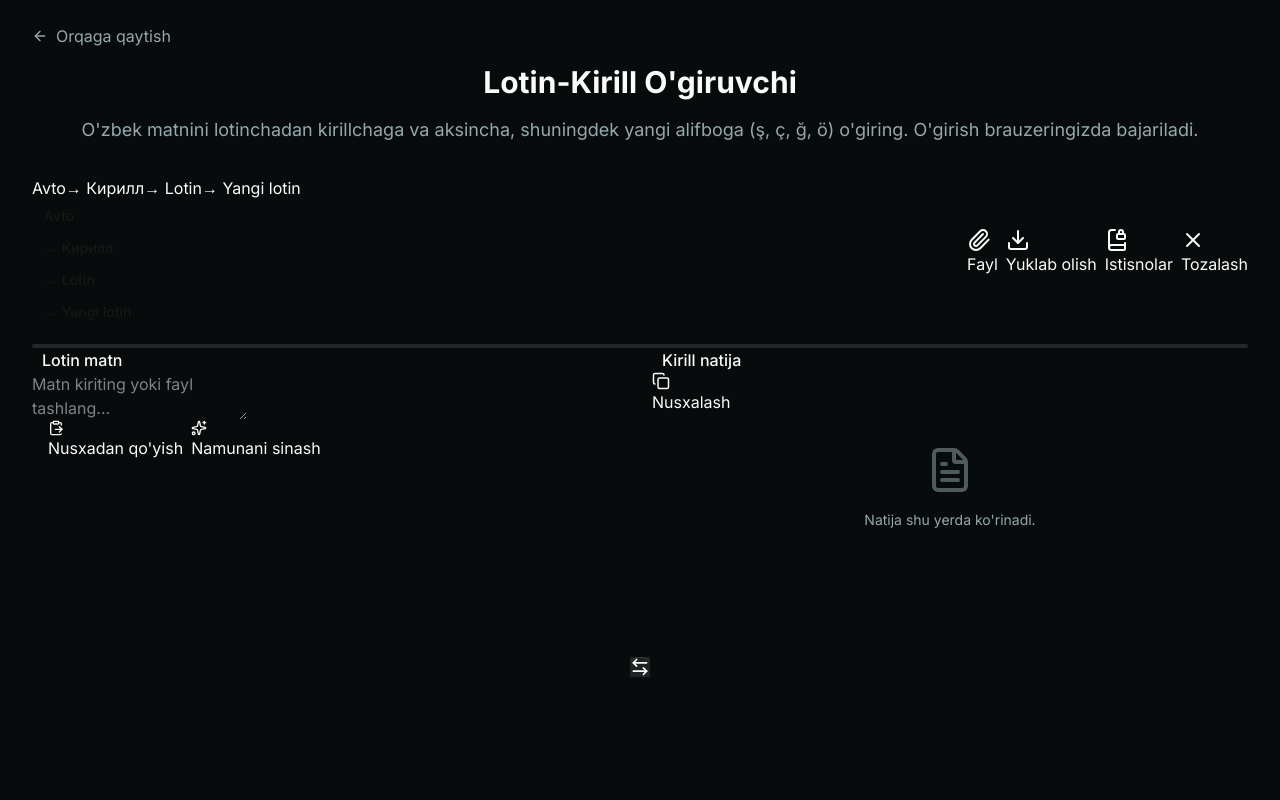
Test: LatinCyrillic converter › converts Latin input to Cyrillic in auto mode
The image size is (1280, 800).
In the text box: (140,396) [32,372,247,420], type "Salom dunyo"
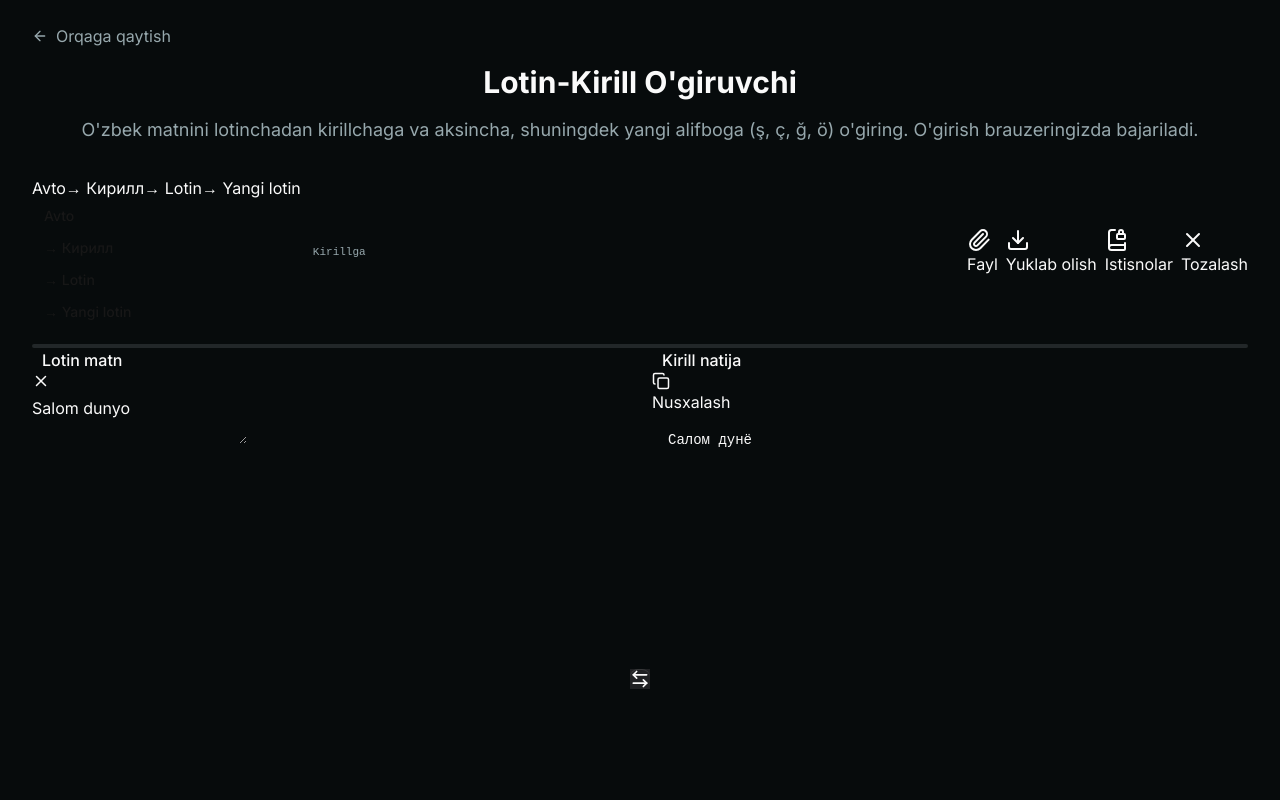
Check: the radio button labelled "Avto" is checked, box [32,178,66,198]
Check: the text "Салом дунё" is shown, box [668,432,752,448]
